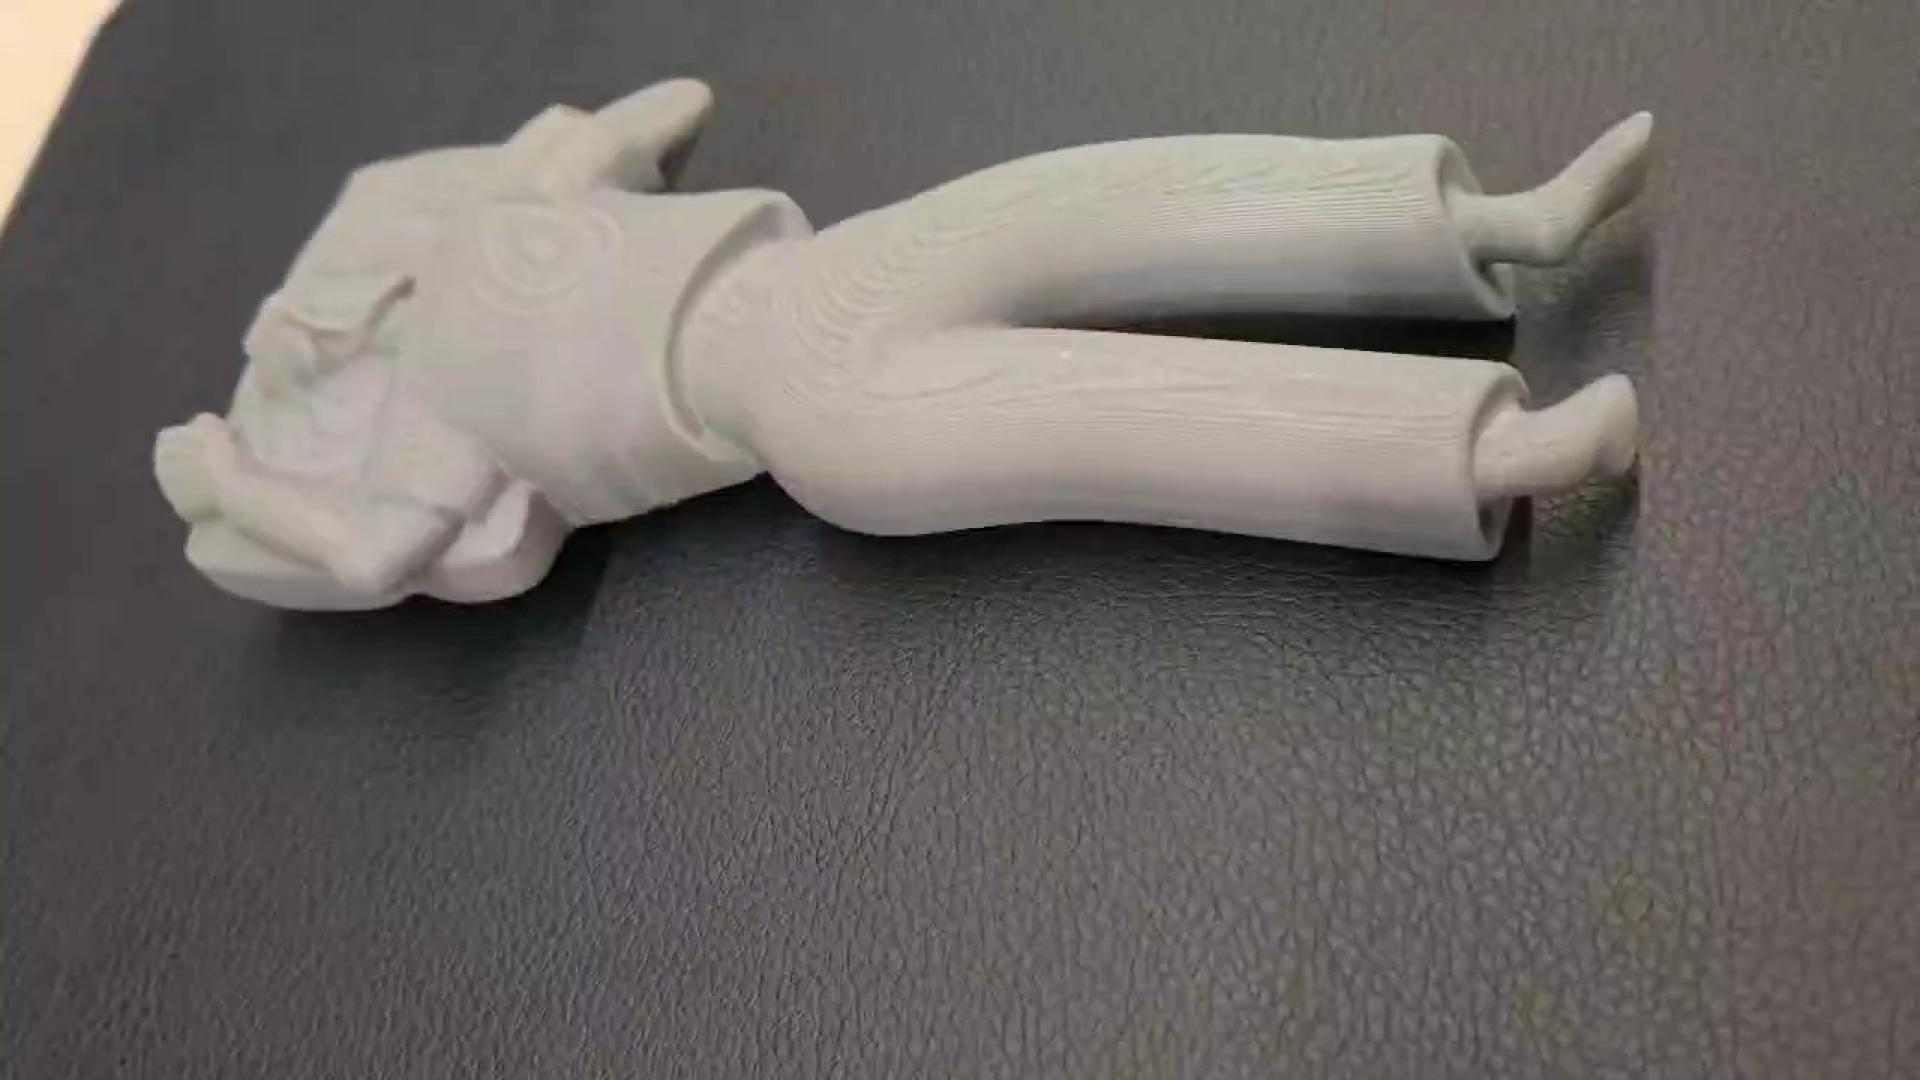Bad-style: (142, 74, 1668, 638)
